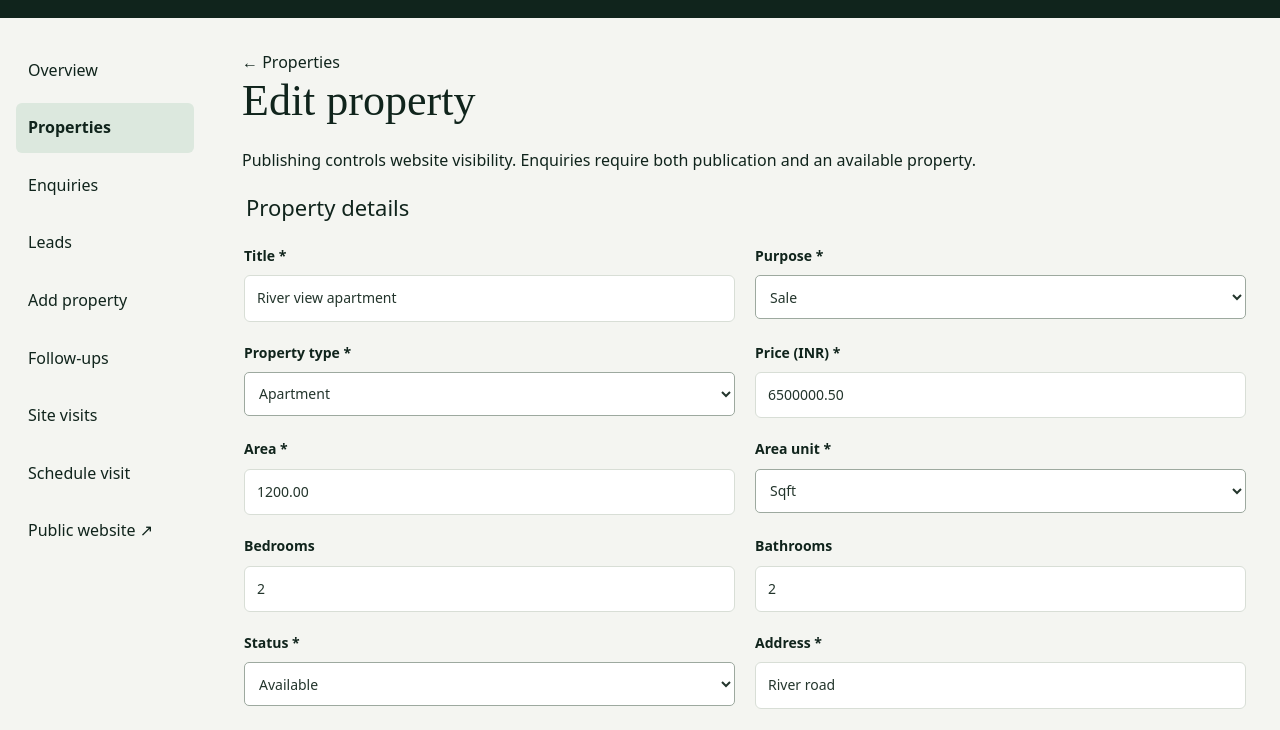
edits private property fields and uploads with POST method override
This screenshot has width=1280, height=730.
Replace the text in the field labelled "Title *" with "Updated river house" at (490, 298), box [244,275,735,322]
(page scrolled)
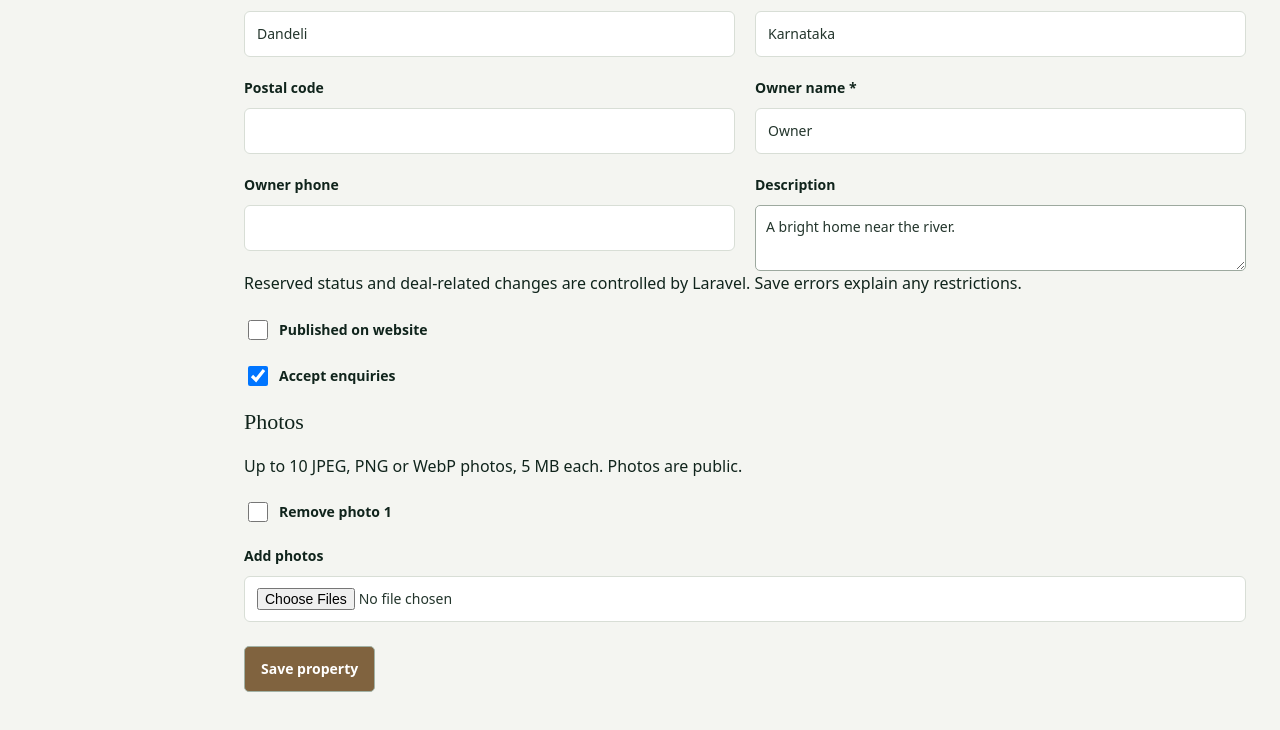
Click the checkbox labelled "Published on website" at (258, 330), box [248,320,268,340]
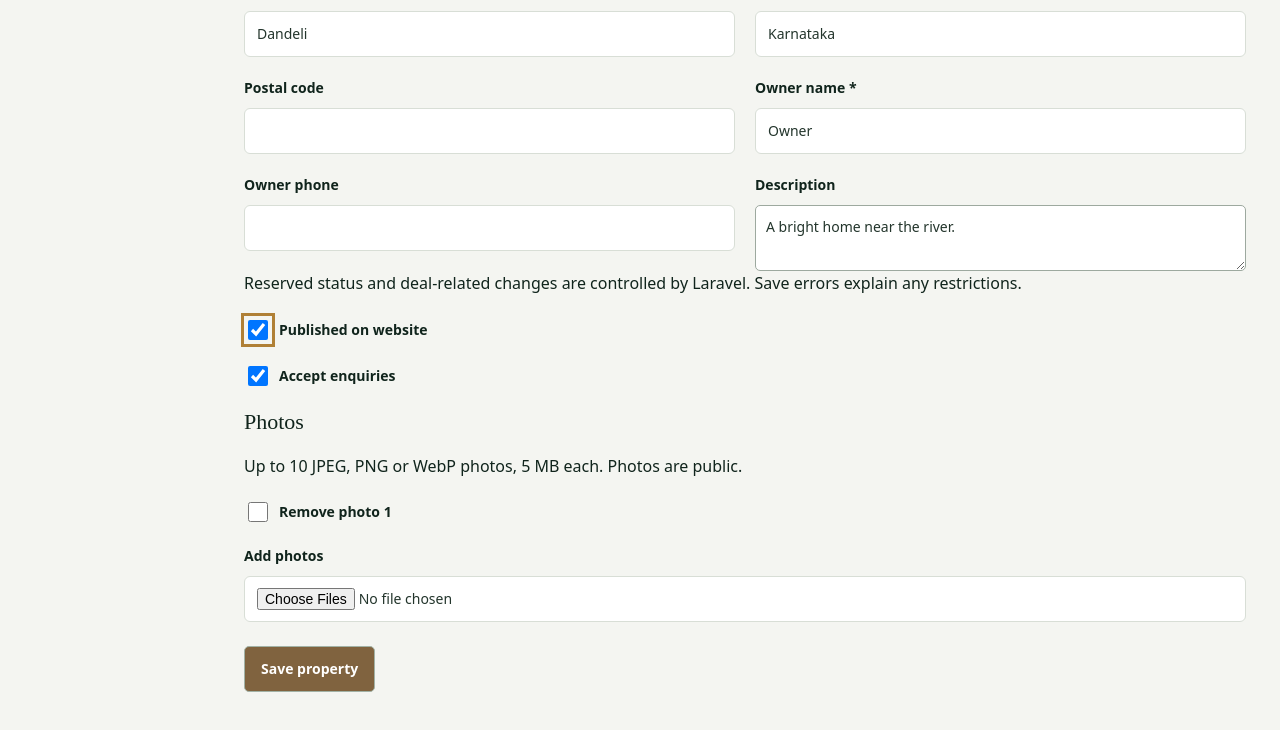
Click the checkbox labelled "Remove photo 1" at (258, 512), box [248,502,268,522]
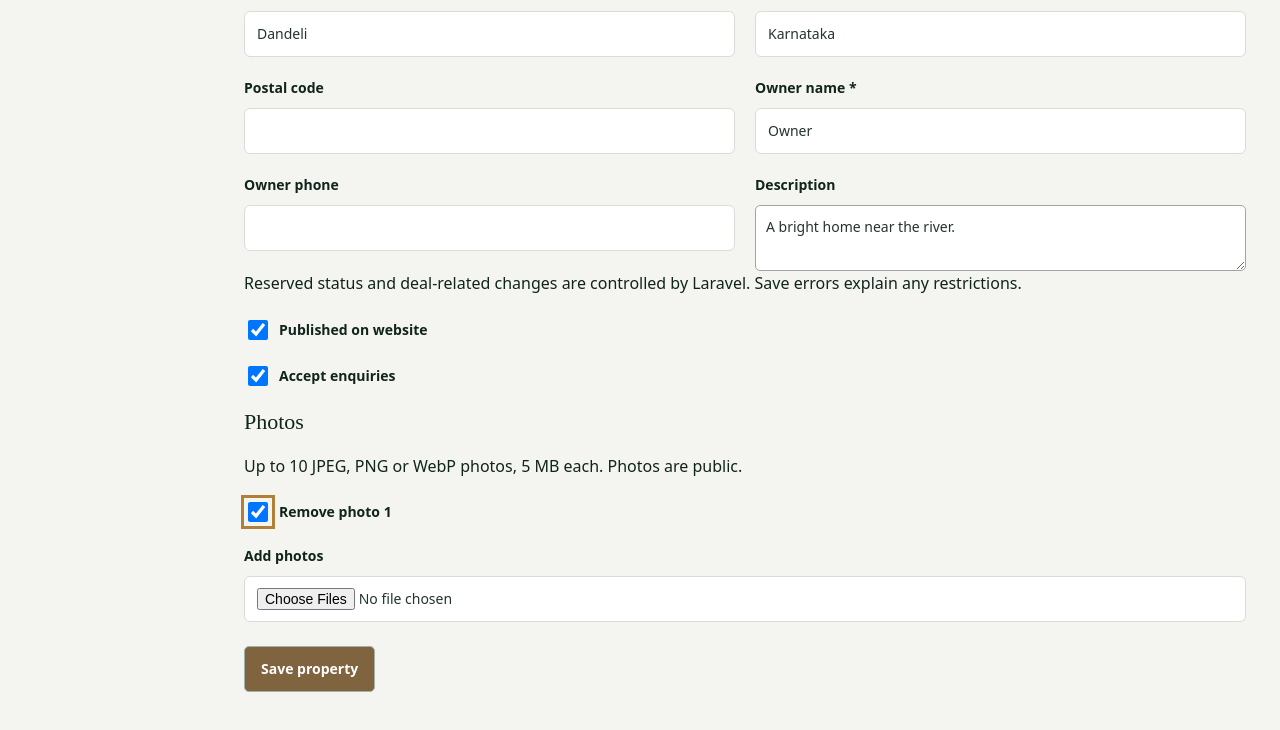
Click the button "Save property" at (310, 669), box [244,646,375,692]
(page scrolled)
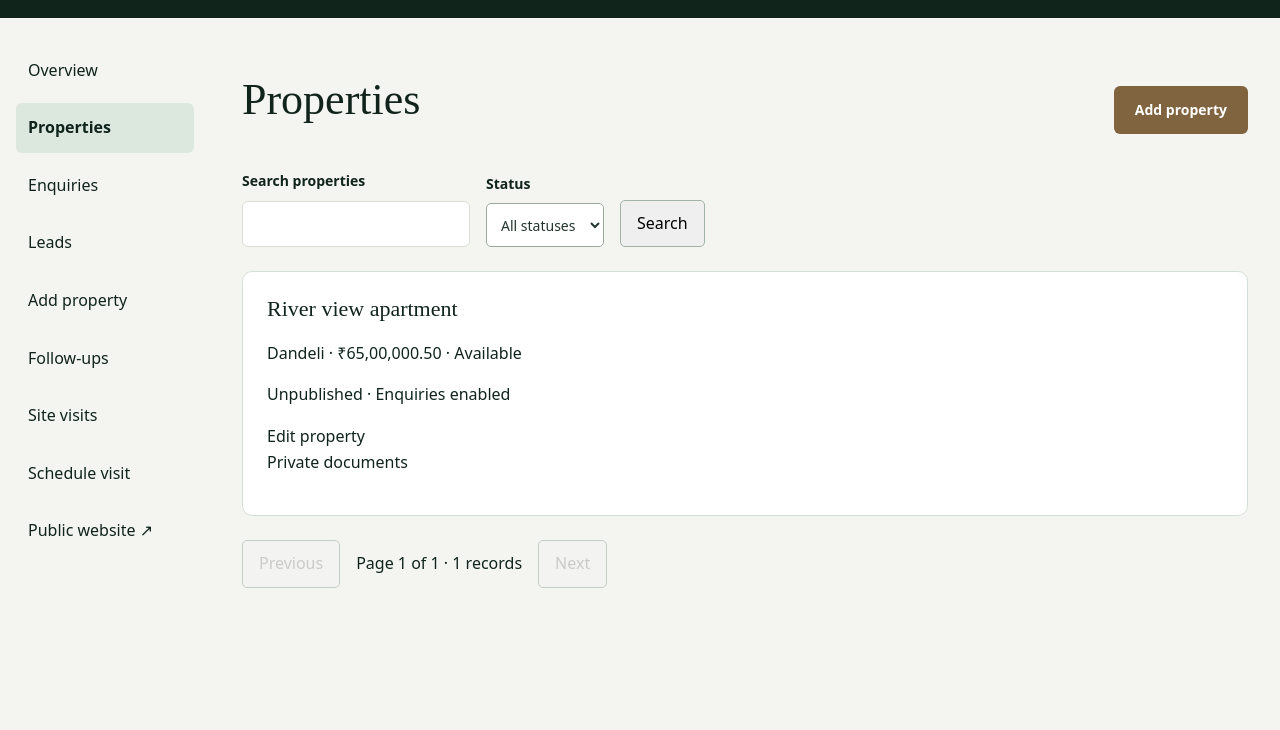
Now the heading "Properties" is shown, box [242,74,420,126]
